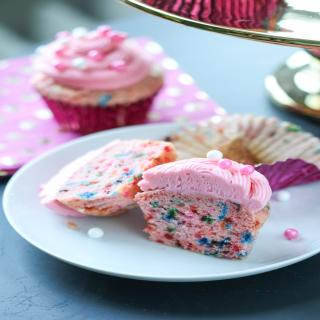Cake: (20, 24, 167, 136), (132, 148, 273, 258), (30, 134, 182, 218)
Muffin: (128, 150, 274, 262), (28, 20, 166, 134), (40, 134, 183, 219)
